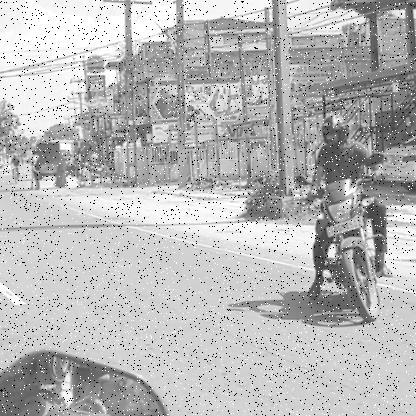motorcycle: (299, 178, 399, 326)
